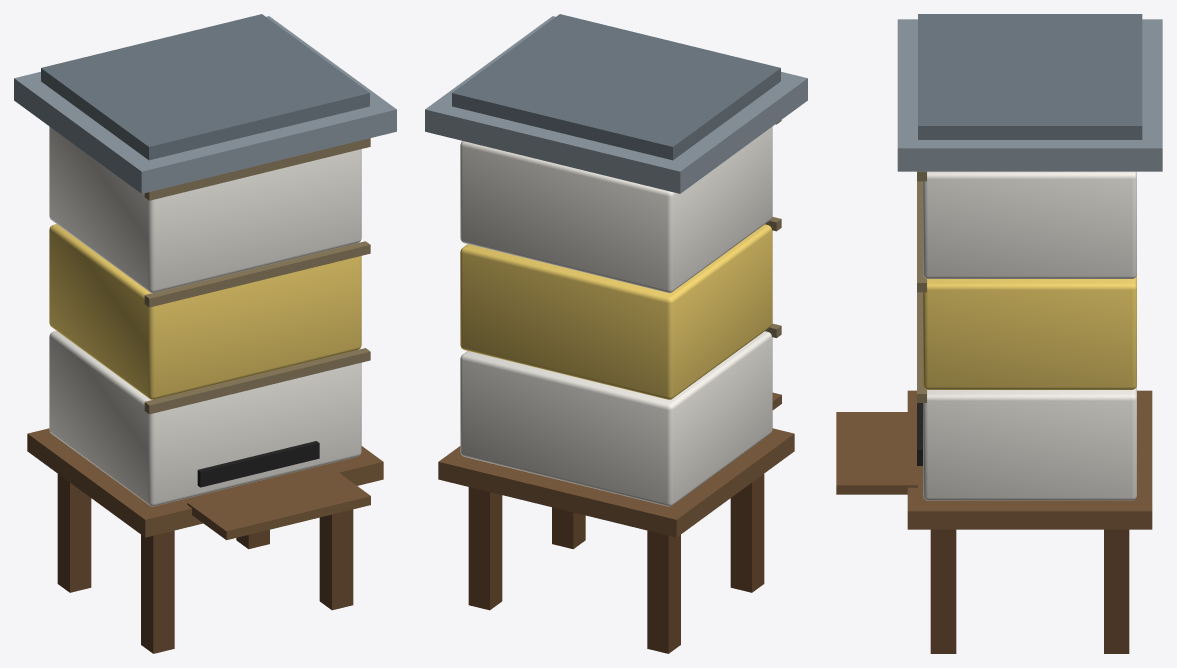
File: bee.glb
3 views of the same model, side by side, from view 1: azimuth 30°, elevation 25°; view 2: azimuth 150°, elevation 25°; view 3: azimuth 270°, elevation 25° (orthographic). The views are drawn at different scales.
Visible parts, largest first — view 1: bee; view 2: bee; view 3: bee.
Part boxes in pixels (x1,y1,x2,y2): bee: [14, 14, 396, 653]; bee: [425, 14, 807, 653]; bee: [836, 14, 1162, 653].
Bounding box in the file's own units: 0.6 × 1.16 × 0.64.
